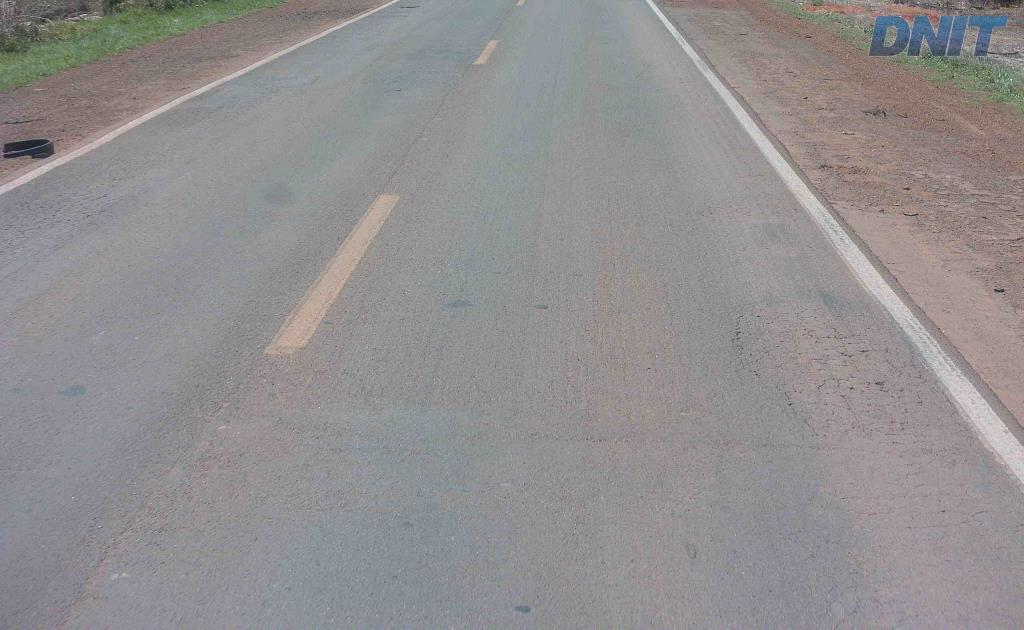crack: (718, 306, 764, 381)
